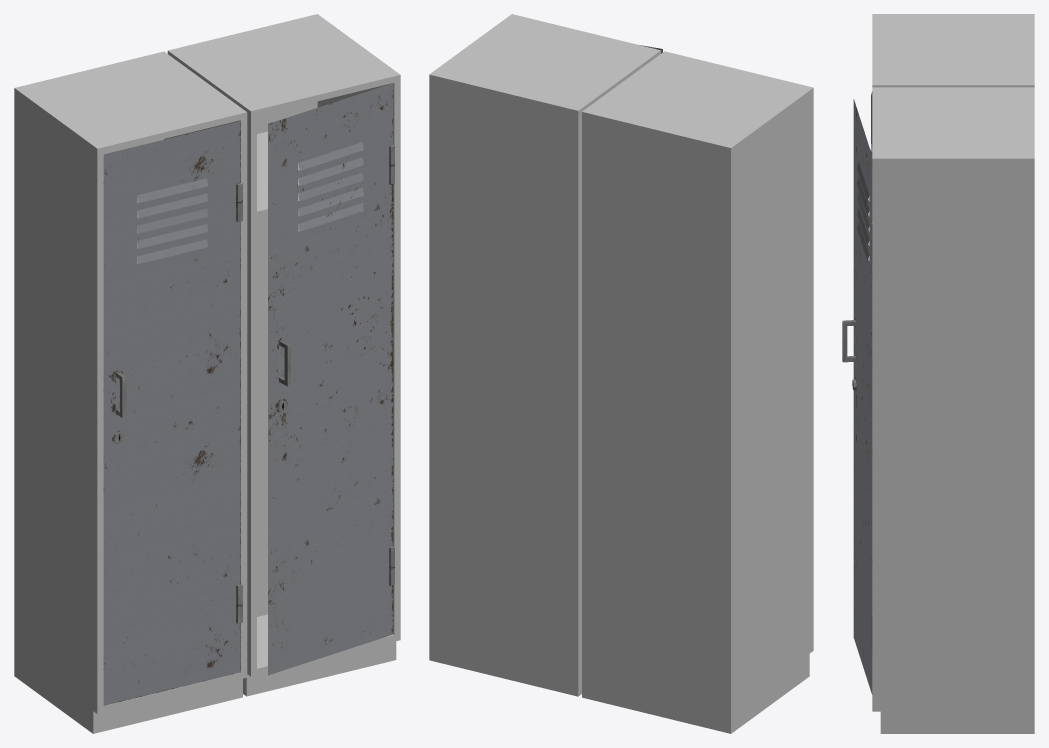
The model's file is cabinet.fbx.
3 renders of one model, left to right at view 1: azimuth 30°, elevation 25°; view 2: azimuth 150°, elevation 25°; view 3: azimuth 270°, elevation 25°, orthographic. The views are drawn at different scales.
Visible parts, largest first — view 1: Cube.003, Cube.001, Cylinder.000; view 2: Cube.001; view 3: Cube.001, Cube.003, Cylinder.000.
Part boxes in pixels (<box>): Cube.003: <box>103,83,393,705</box>; Cube.001: <box>14,14,400,733</box>; Cylinder.000: <box>113,145,394,623</box>; Cube.001: <box>429,14,813,733</box>; Cube.001: <box>872,14,1034,733</box>; Cube.003: <box>853,91,872,694</box>; Cylinder.000: <box>842,148,872,652</box>.
Bounding box in the file's own units: 138 × 256 × 77.58.
